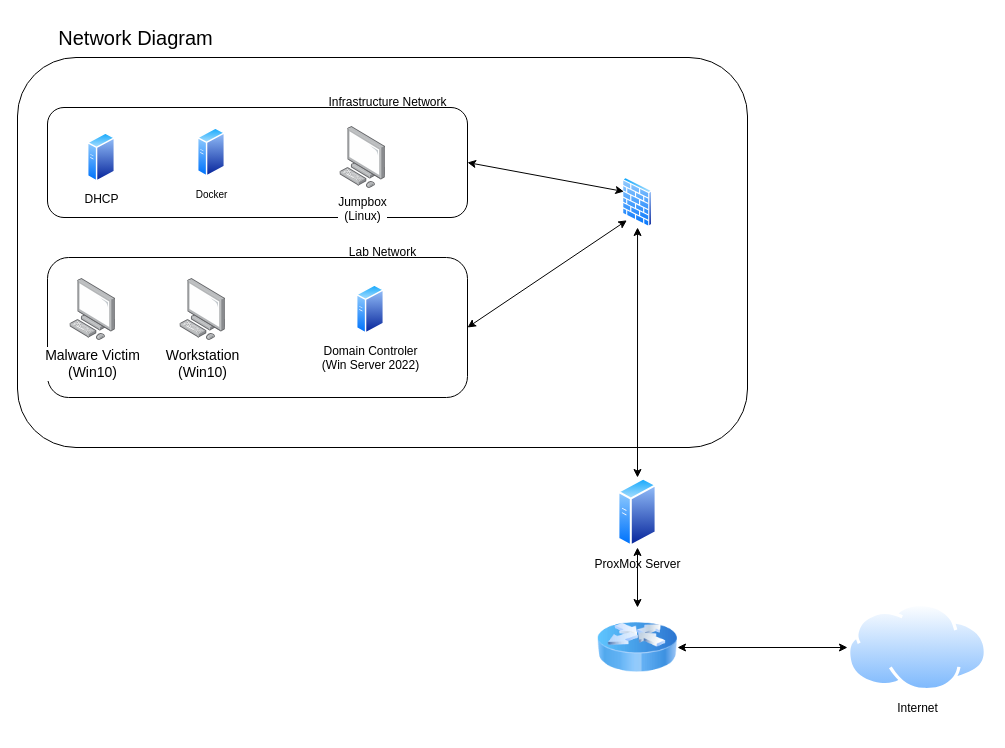
Some shapes in this 1005 by 748 pixel diagram are drawn without their labels. The shapes that lost their labels are listed below. From the top down, each one's box as (x1, y1, x2, y2) in pixels, then its label:
(622, 177, 652, 227): OPNSense Router
(597, 607, 677, 687): Home Router
